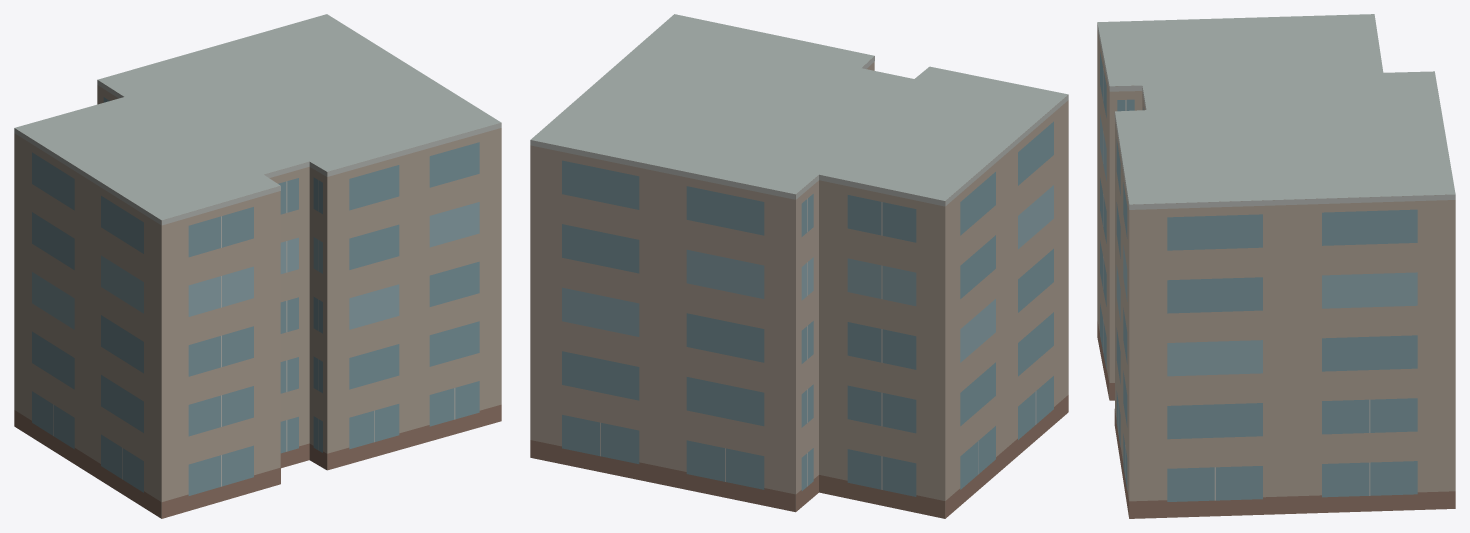
The model's file is survey-upis-32757708.glb.
The picture shows the model from 3 angles, left to right: view 1: azimuth 30°, elevation 25°; view 2: azimuth 150°, elevation 25°; view 3: azimuth 270°, elevation 25°; orthographic projection. The views are drawn at different scales.
Visible parts, largest first — view 1: survey-upis-32757708.tmp; view 2: survey-upis-32757708.tmp; view 3: survey-upis-32757708.tmp.
Part boxes in pixels (bbox=[...]): survey-upis-32757708.tmp: bbox=[14, 14, 501, 518]; survey-upis-32757708.tmp: bbox=[530, 14, 1068, 518]; survey-upis-32757708.tmp: bbox=[1097, 14, 1455, 518].
Size of the model in its own units: 18.34 by 14.1 by 14.58.
